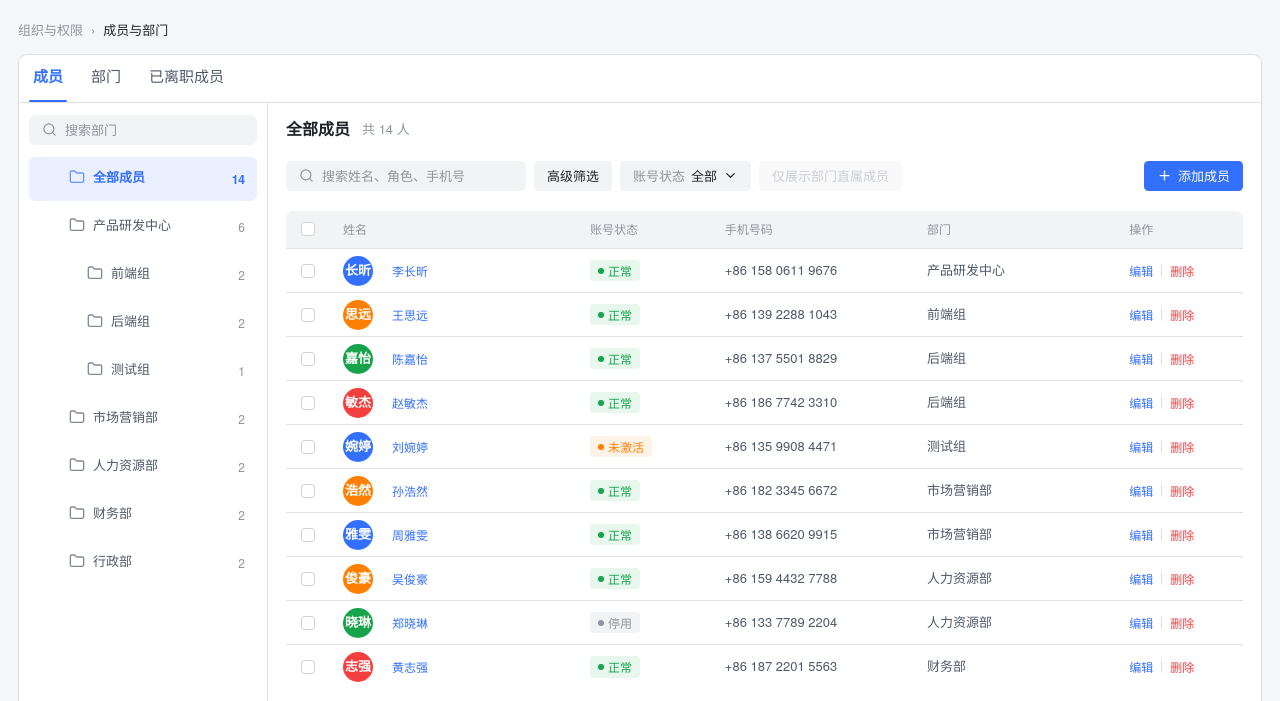
it: create form validation is driven by zod email validity before submit
The image size is (1280, 701).
expect the text "李长昕" is shown: met, box [392,262,428,278]
Click the button "添加成员" at (1194, 176), box [1144,160,1243,190]
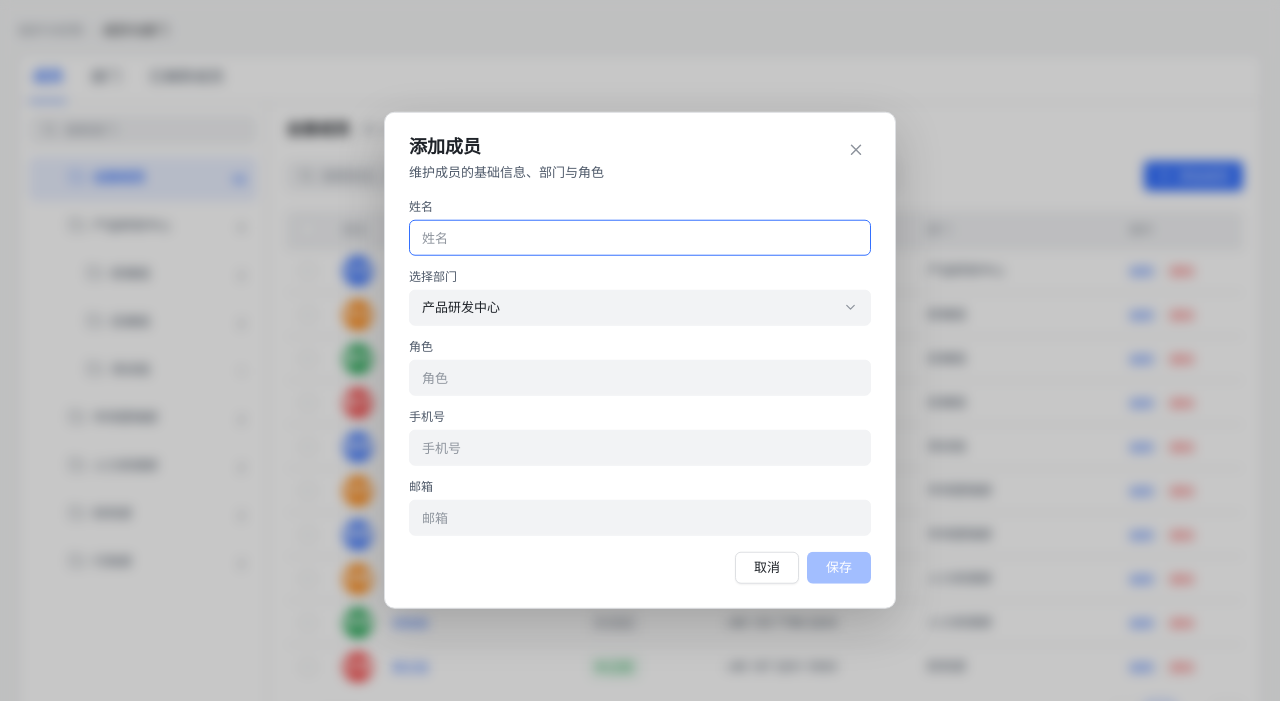
Type "测试成员" into the field with placeholder "姓名" at (640, 237), box [409,219,871,255]
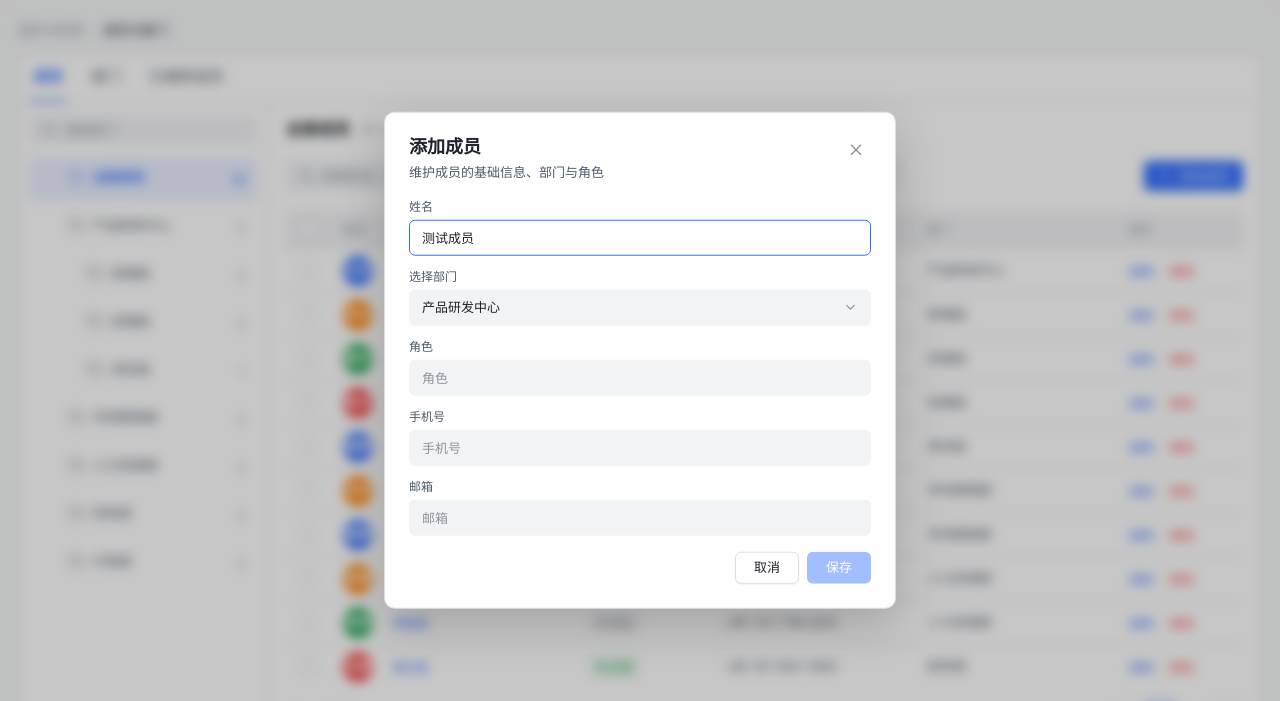
Type "测试工程师" into the field with placeholder "角色" at (640, 377), box [409,359,871,395]
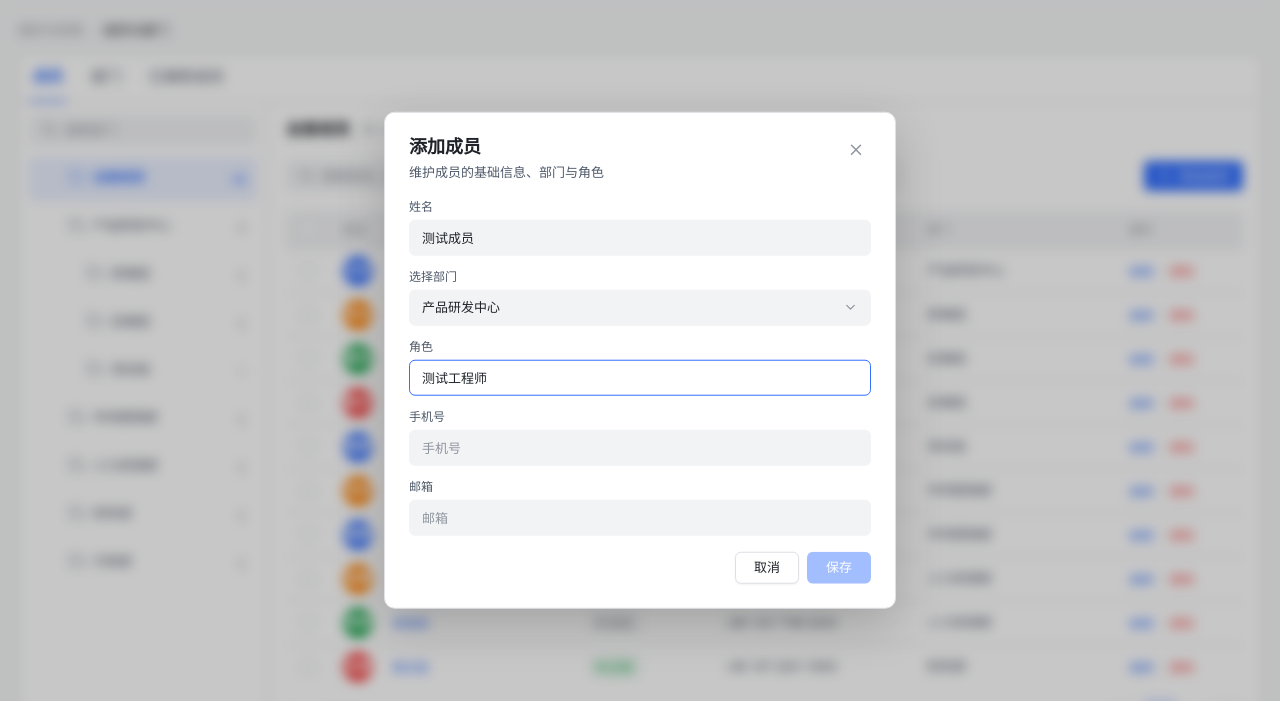
Type "+86 130 0000 0000" into the field with placeholder "手机号" at (640, 447), box [409,429,871,465]
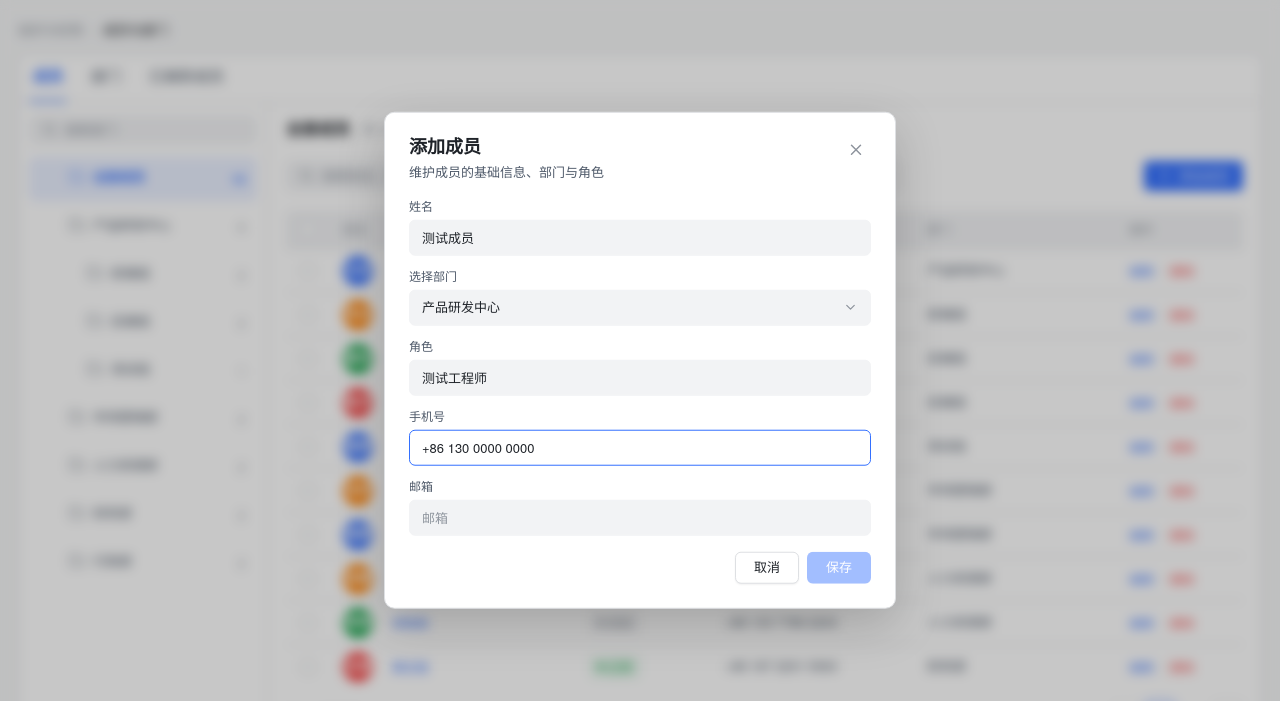
Type "bad-email" into the field with placeholder "邮箱" at (640, 517), box [409,499,871,535]
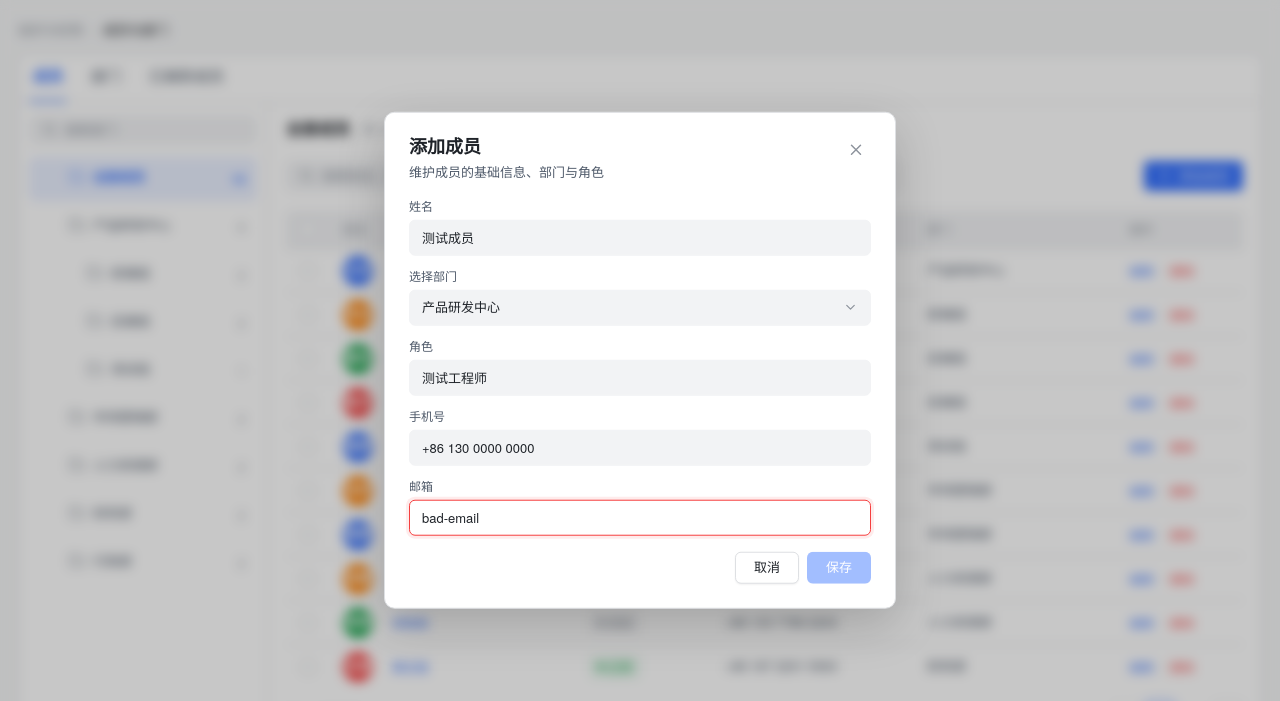
expect the button "保存" is disabled: met, box [807,551,871,583]
Replace the text in the field with placeholder "邮箱" with "tester@example.com" at (640, 517), box [409,499,871,535]
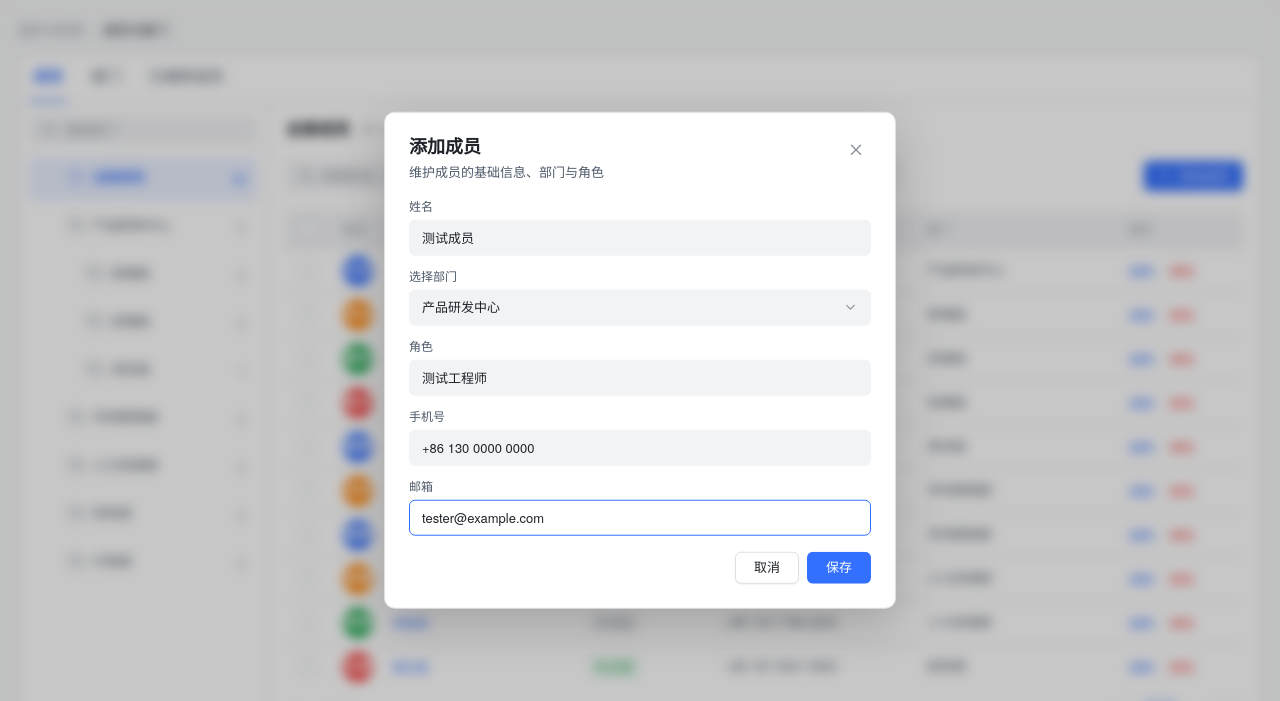
expect the button "保存" is enabled: met, box [807,551,871,583]
